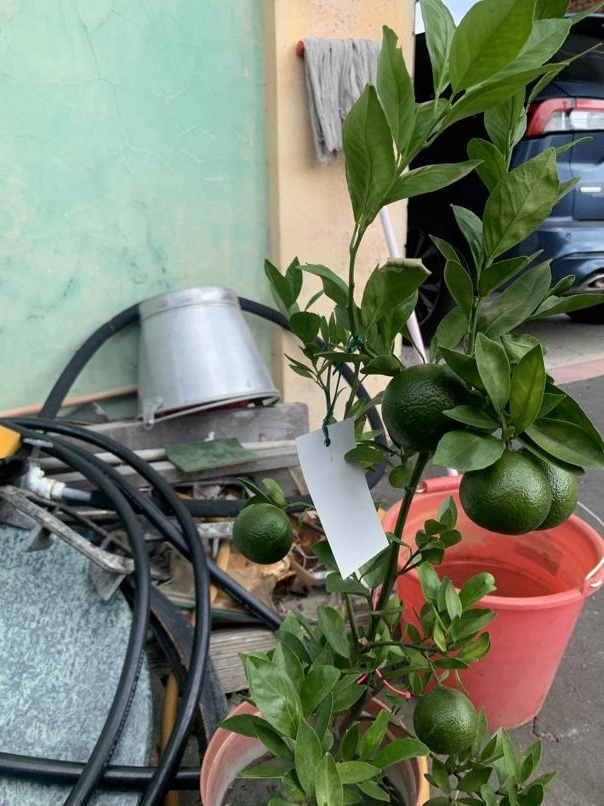Tangerine: (458, 443, 554, 536), (382, 362, 466, 451), (410, 685, 483, 758), (230, 502, 295, 566)
